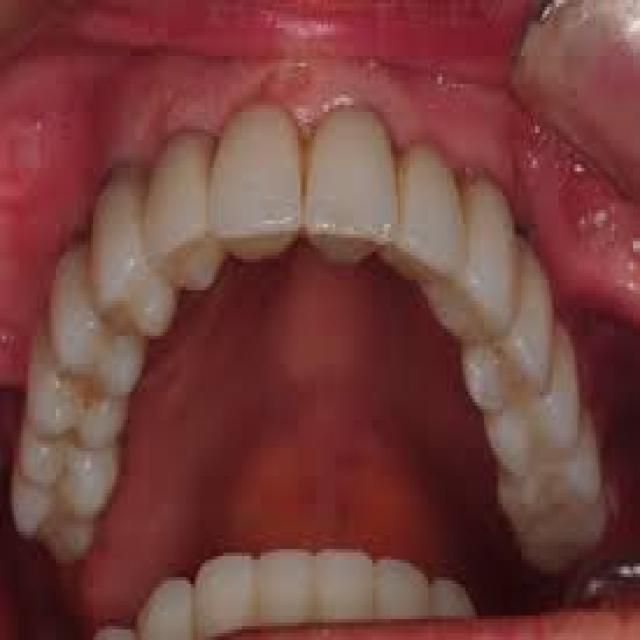tooth: (312, 126, 398, 231), (216, 115, 298, 224), (86, 182, 147, 280), (147, 147, 207, 238), (26, 454, 119, 504), (30, 388, 116, 441), (514, 503, 605, 552), (408, 165, 452, 262), (470, 192, 510, 298), (261, 549, 321, 619), (489, 451, 596, 490), (49, 283, 98, 364), (4, 514, 98, 556), (488, 402, 580, 441), (200, 556, 251, 626), (519, 259, 552, 360), (330, 552, 377, 616), (135, 584, 193, 633), (386, 560, 426, 616), (433, 584, 470, 623), (93, 626, 130, 640)
